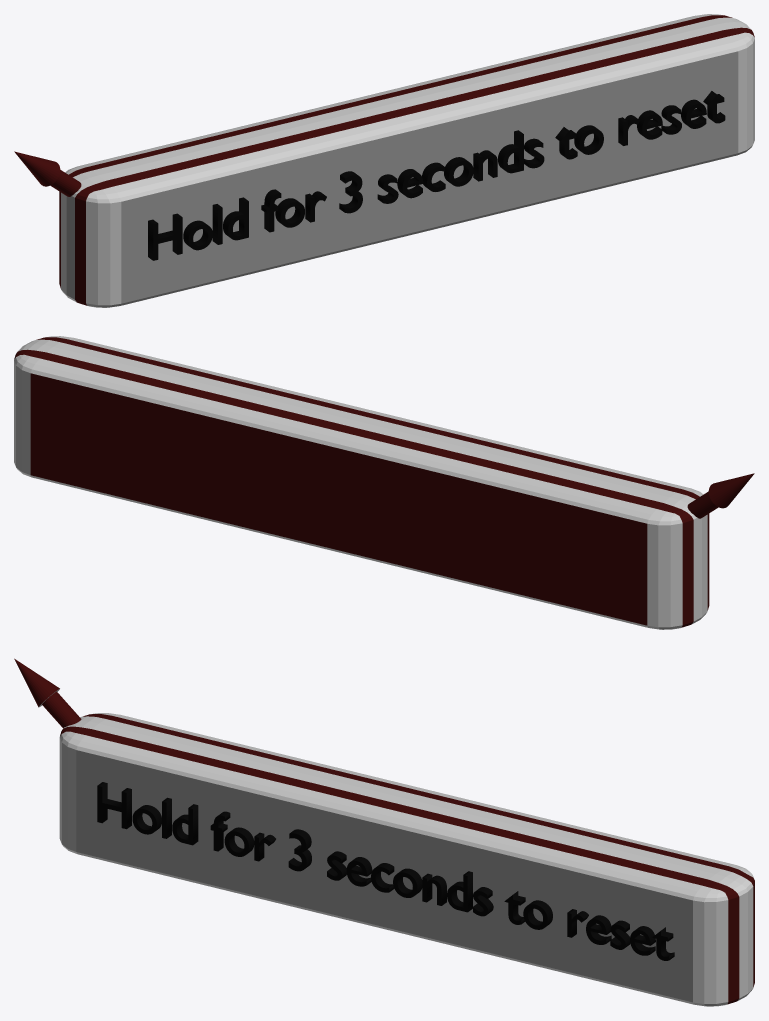
File: box_reset1.obj
The picture shows the model from 3 angles, top to bottom: view 1: azimuth 30°, elevation 25°; view 2: azimuth 150°, elevation 25°; view 3: azimuth 330°, elevation 25°; orthographic projection.
Parts seen in each view (by area): view 1: box_reset; view 2: box_reset; view 3: box_reset.
Part boxes in pixels (x1=…): box_reset: x1=14, y1=14, x2=754, y2=307; box_reset: x1=14, y1=336, x2=754, y2=629; box_reset: x1=14, y1=658, x2=754, y2=1006.
Size of the model in its own units: 0.4434 by 0.0962 by 0.0531.
